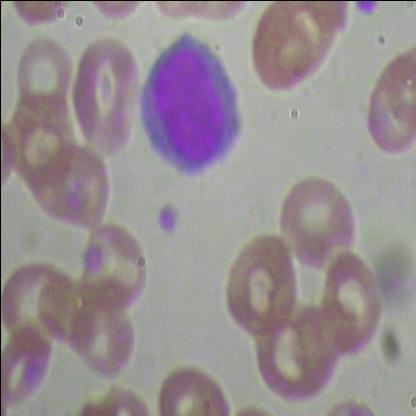Platelets: (152, 201, 182, 237), (353, 1, 381, 17)
RBC: (249, 0, 344, 98), (68, 37, 146, 156), (221, 232, 302, 338), (276, 176, 358, 277), (18, 146, 110, 232), (76, 219, 148, 316), (320, 253, 384, 356), (11, 36, 72, 134), (363, 56, 415, 162), (153, 359, 232, 415)
WBC: (130, 29, 250, 180)
